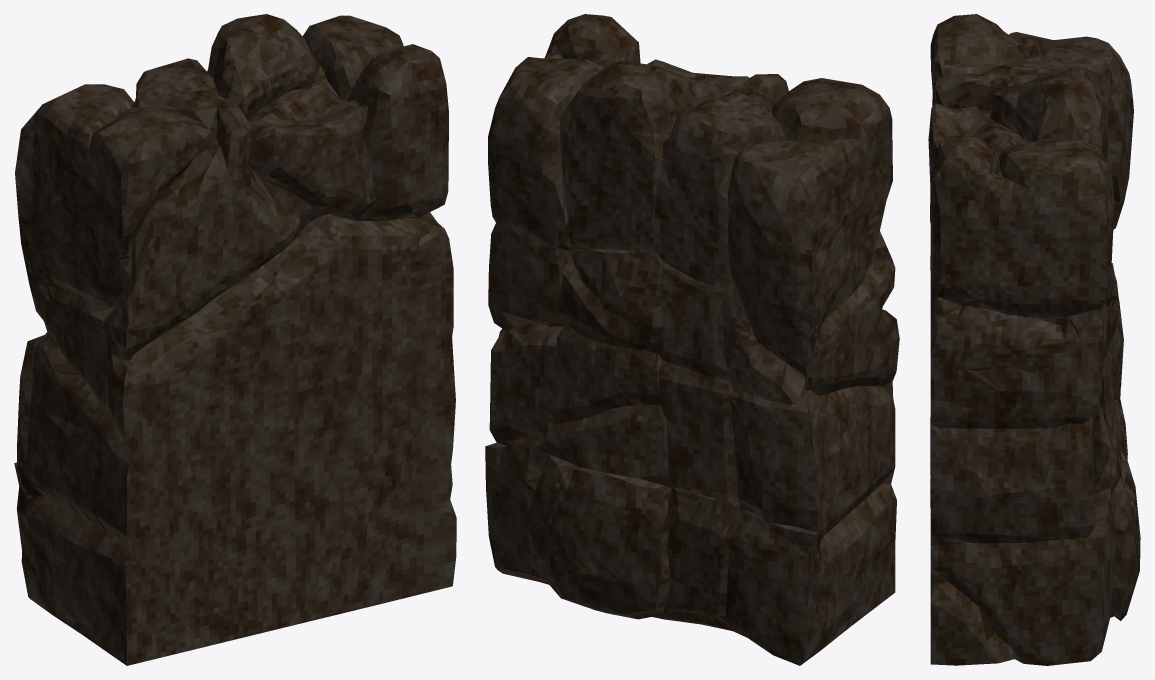
Rendered from cave-wall2.glb.
The picture shows the model from 3 angles, left to right: view 1: azimuth 30°, elevation 25°; view 2: azimuth 150°, elevation 25°; view 3: azimuth 270°, elevation 25°; orthographic projection. The views are drawn at different scales.
Parts seen in each view (by area): view 1: Cube.001; view 2: Cube.001; view 3: Cube.001.
Part boxes in pixels (bbox=[...]): Cube.001: bbox=[14, 14, 456, 665]; Cube.001: bbox=[485, 14, 899, 665]; Cube.001: bbox=[928, 14, 1140, 665].
Bounding box in the file's own units: 4.35 × 6.47 × 2.34.
1 material, 1 textured.
